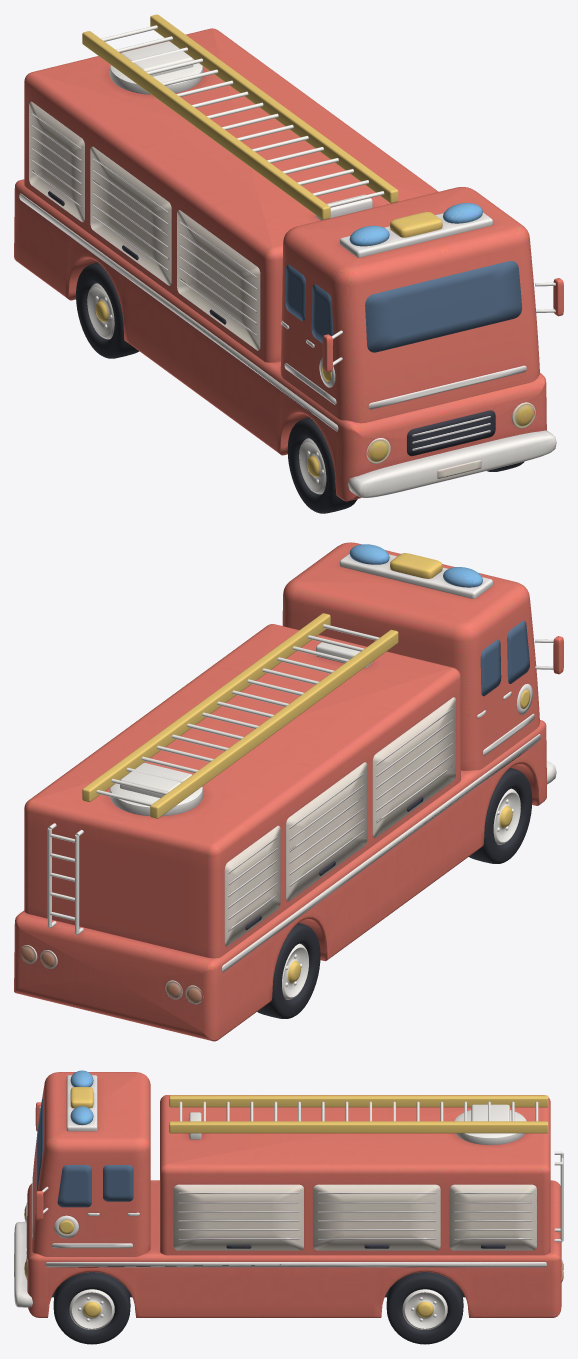
The model's file is fire-truck.glb.
The picture shows the model from 3 angles, top to bottom: view 1: azimuth 30°, elevation 25°; view 2: azimuth 150°, elevation 25°; view 3: azimuth 270°, elevation 25°; orthographic projection. The views are drawn at different scales.
Parts seen in each view (by area): view 1: fire-truck_body, fire-truck_ladder, fire-truck_windows, fire-truck_wheel_fr, fire-truck_wheel_rr; view 2: fire-truck_body, fire-truck_ladder, fire-truck_wheel_rr, fire-truck_wheel_fr, fire-truck_windows; view 3: fire-truck_body, fire-truck_ladder, fire-truck_wheel_fl, fire-truck_wheel_rl, fire-truck_windows.
Part boxes in pixels (x1,y1,x2,y2): fire-truck_body: [14, 28, 563, 501]; fire-truck_ladder: [82, 14, 398, 219]; fire-truck_windows: [285, 260, 522, 352]; fire-truck_wheel_fr: [287, 417, 357, 513]; fire-truck_wheel_rr: [76, 262, 139, 358]; fire-truck_body: [14, 542, 563, 1041]; fire-truck_ladder: [82, 613, 398, 818]; fire-truck_wheel_rr: [257, 922, 320, 1018]; fire-truck_wheel_fr: [469, 768, 532, 863]; fire-truck_windows: [480, 620, 529, 696]; fire-truck_body: [14, 1070, 563, 1317]; fire-truck_ladder: [169, 1095, 548, 1133]; fire-truck_wheel_fl: [53, 1272, 130, 1344]; fire-truck_wheel_rl: [386, 1272, 463, 1344]; fire-truck_windows: [36, 1098, 133, 1207].
Bounding box in the file's own units: 2.8 × 3.1 × 7.13.
16 materials, 1 textured.
